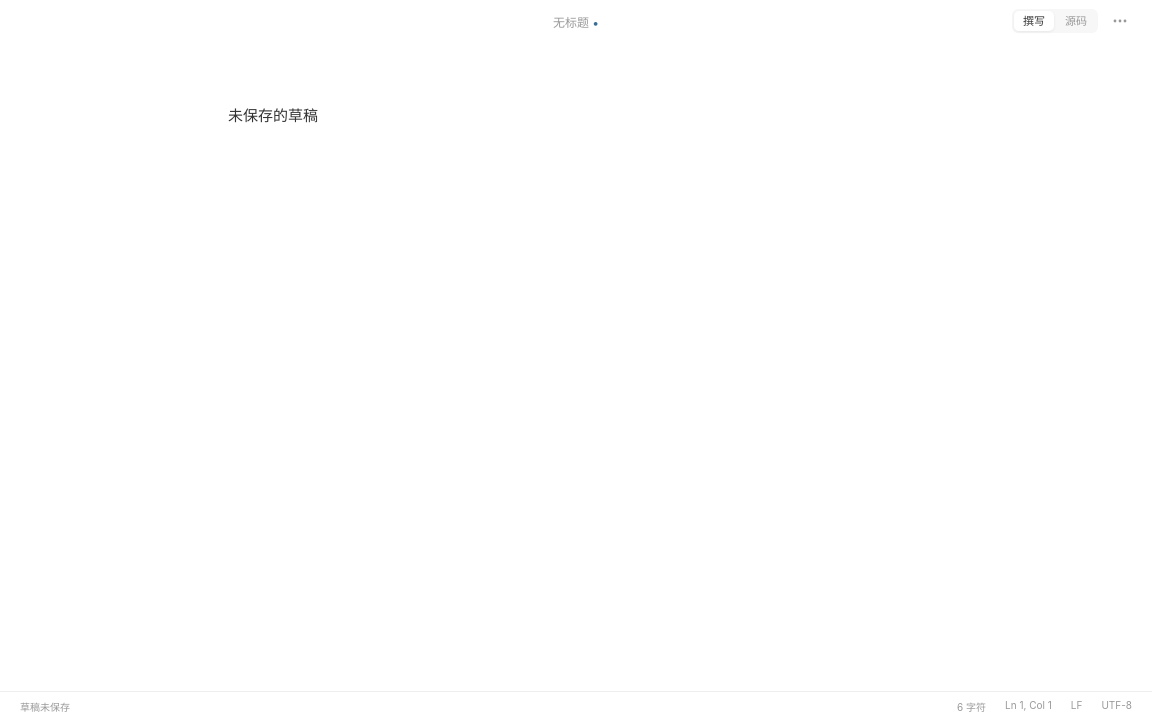
Test: shows the ten recent files and opens a selected path while preserving an edited document
Click the button named "文档操作" at (1120, 21), box [1106, 7, 1134, 35]
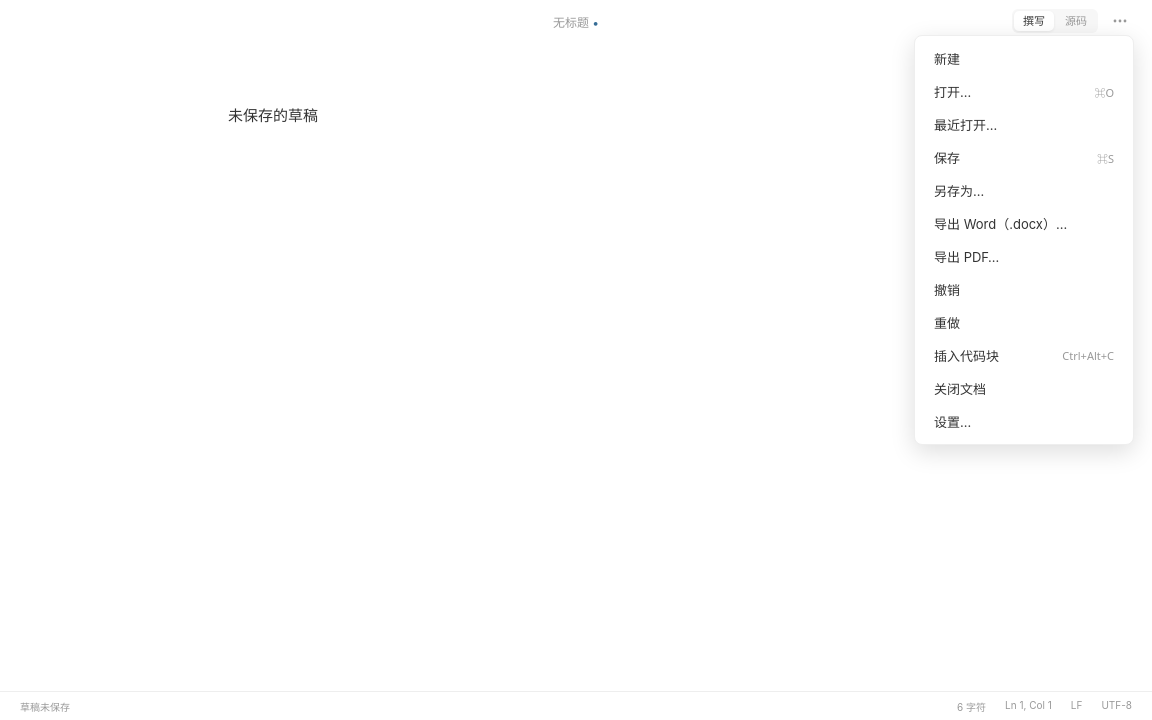
Click the button "最近打开…" at (1024, 124), box [921, 108, 1127, 141]
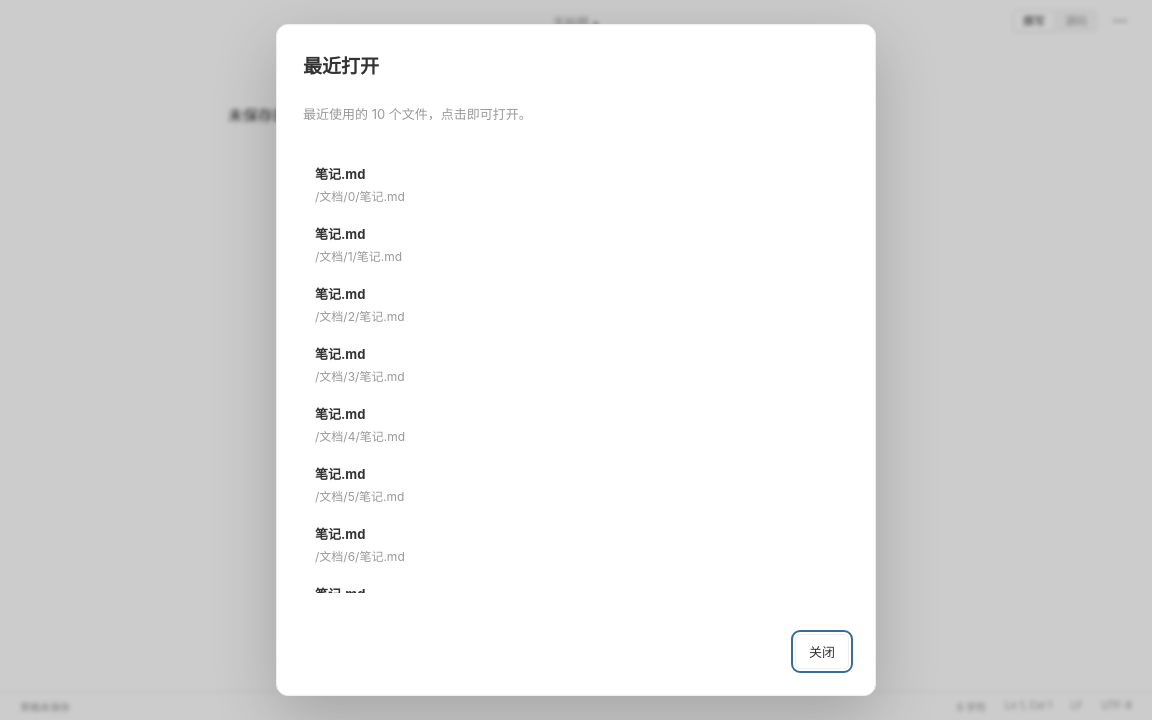
Click the button with aria-label "打开 /文档/4/笔记.md" at (340, 414), box [303, 394, 849, 454]
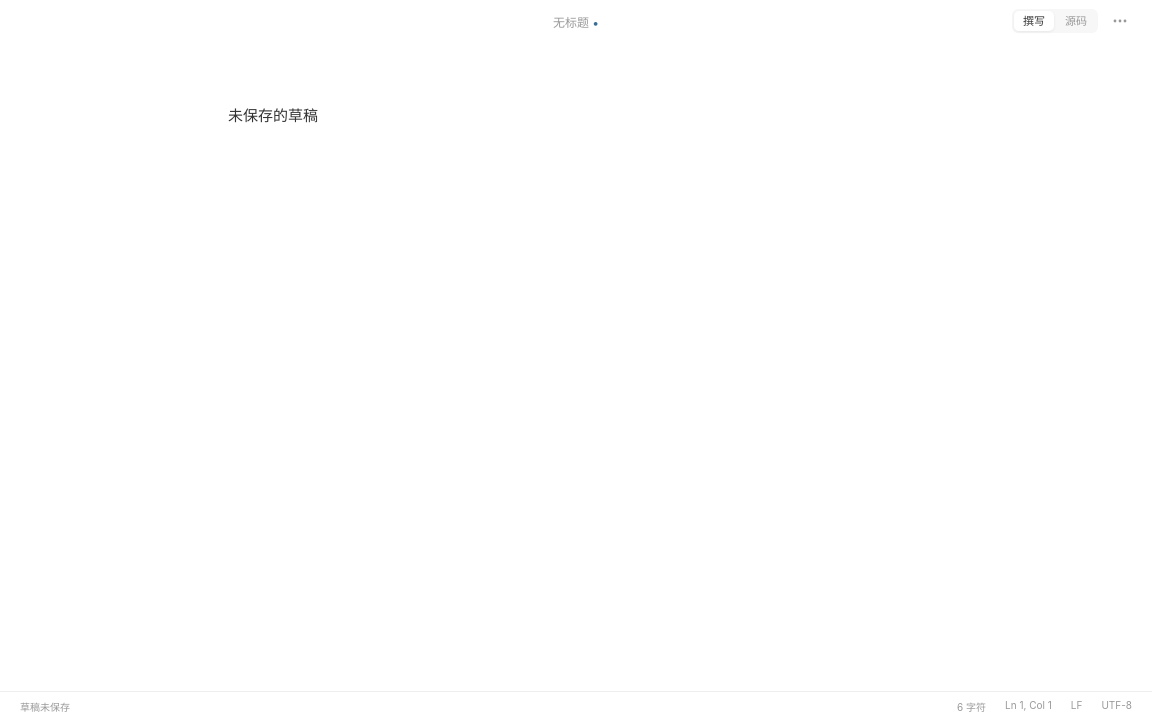
Expected: the text box labelled "未保存的草稿" is shown, [228, 106, 318, 125]
Expected: the dialog is gone
